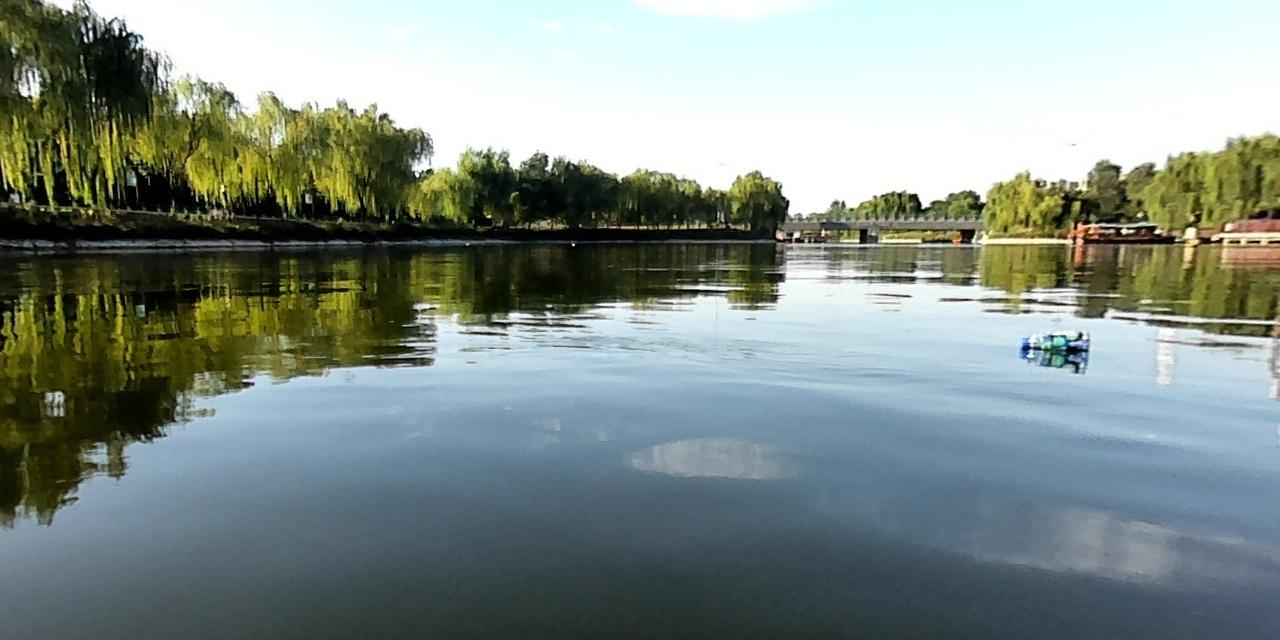bottle: (1014, 326, 1094, 358)
